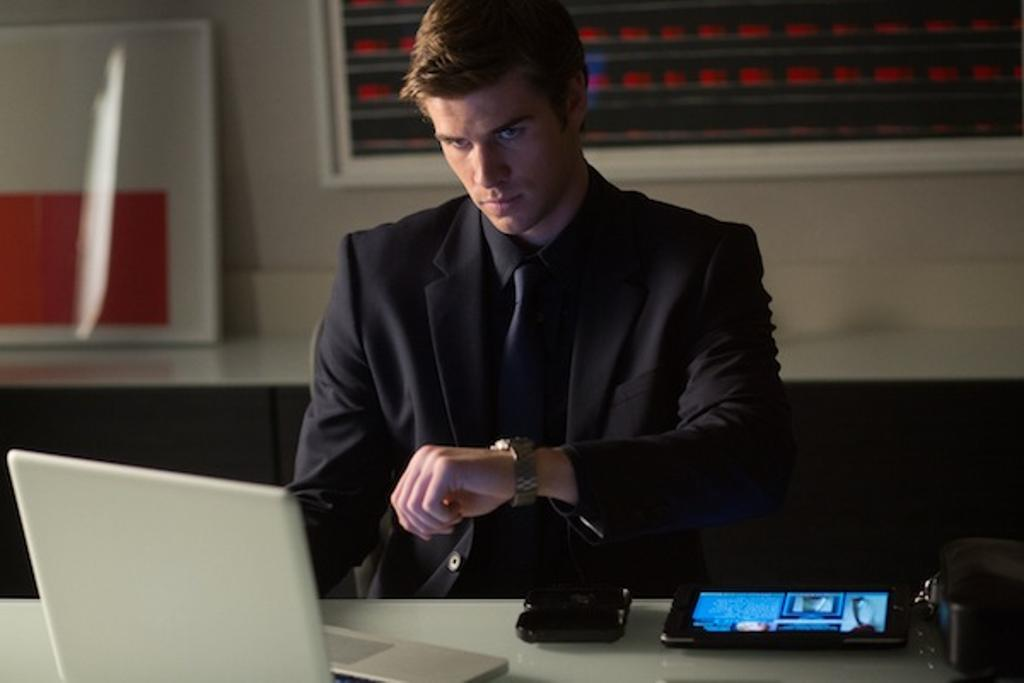face: (428, 70, 568, 238)
